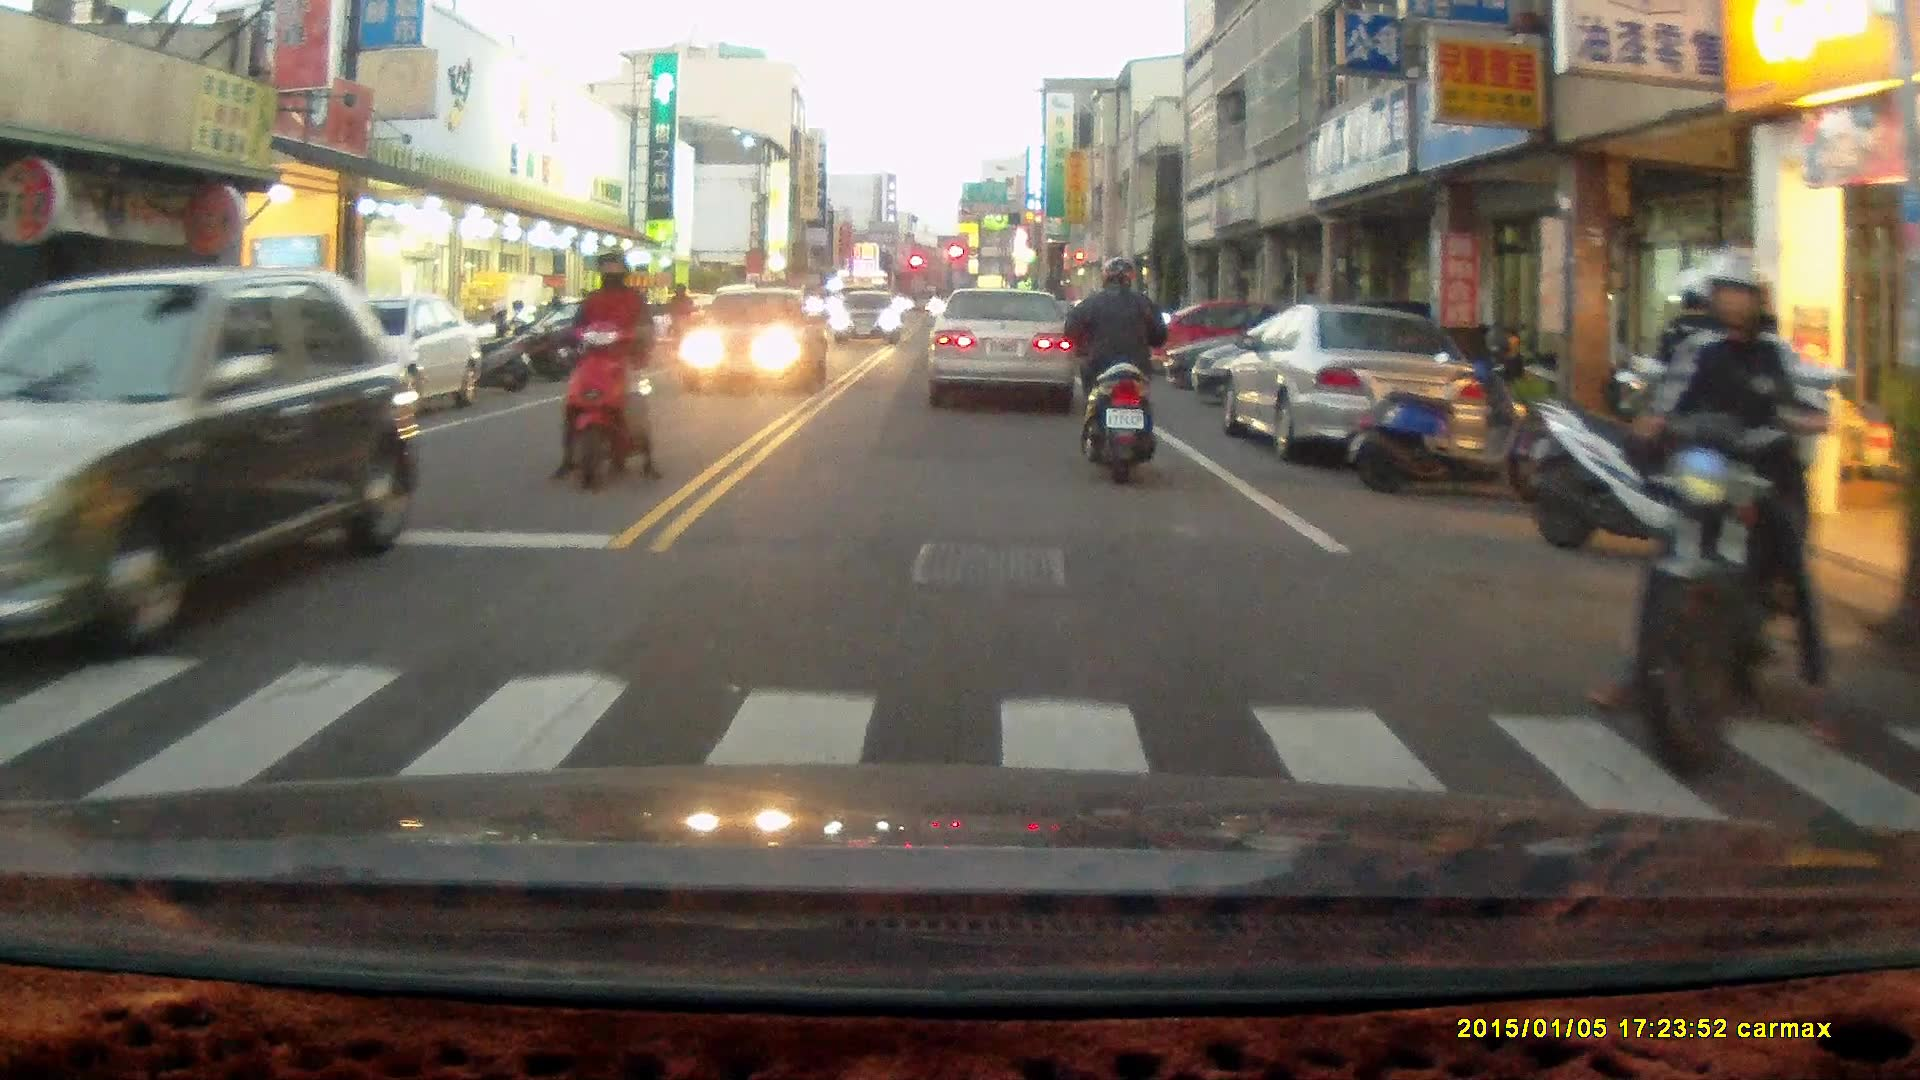pedestrian: (663, 283, 692, 356)
rider: (1591, 256, 1855, 784), (551, 246, 664, 492), (1067, 253, 1176, 482)
vehicle: (1, 268, 430, 655), (1223, 304, 1485, 468), (248, 286, 483, 434), (1139, 294, 1356, 379), (928, 289, 1082, 406), (679, 283, 830, 389), (828, 290, 905, 347)
